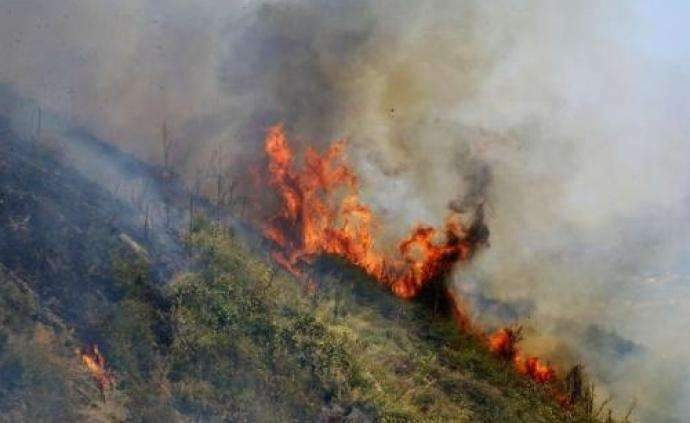fire: (244, 117, 560, 388), (78, 342, 112, 385)
